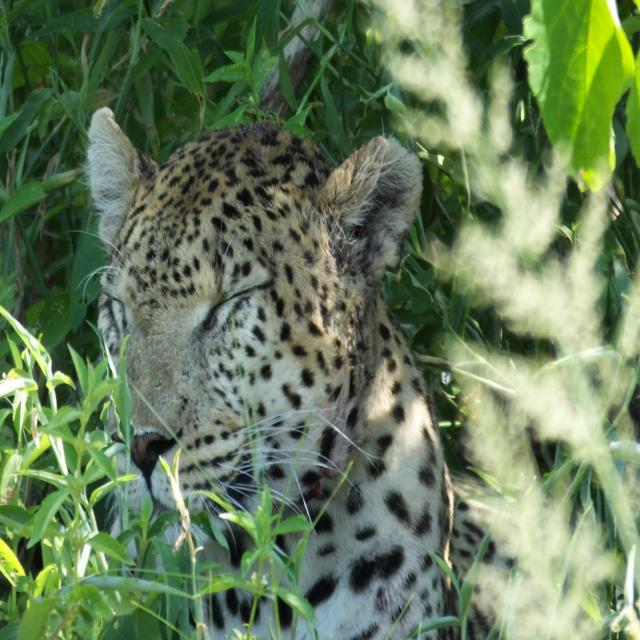Leopard: (70, 99, 544, 640)
